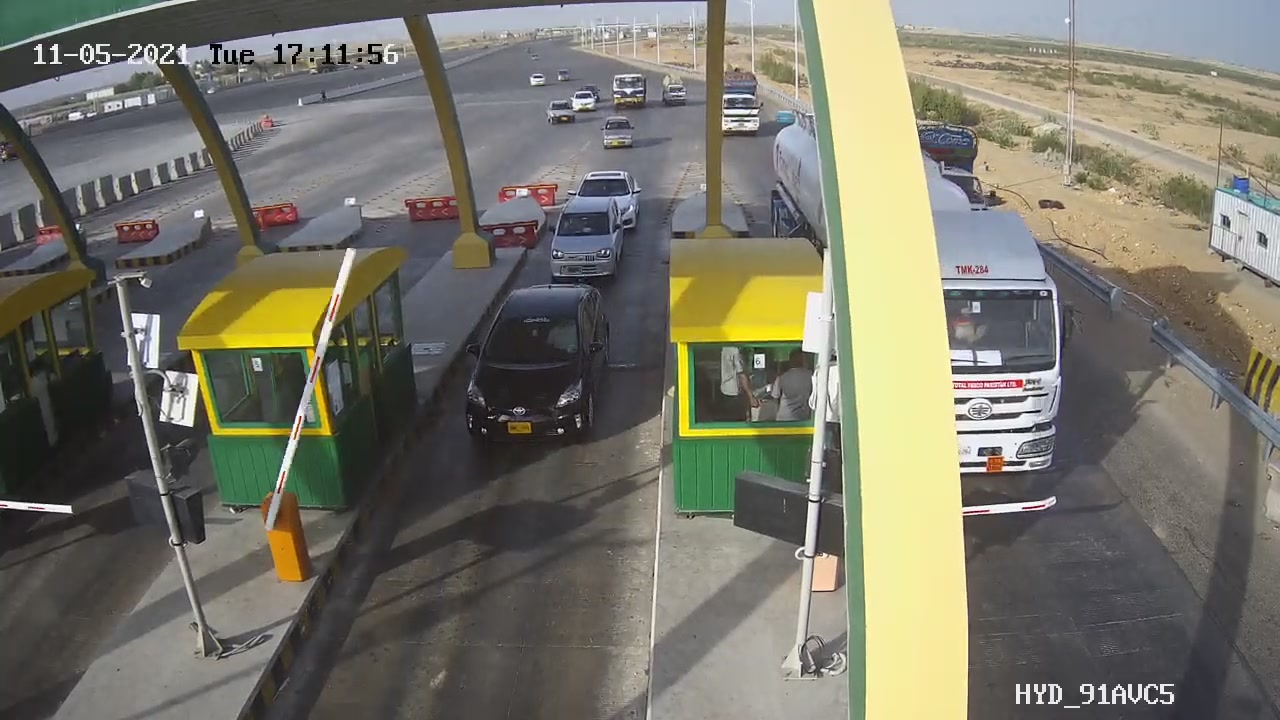F1: (438, 274, 633, 460), (534, 187, 637, 290)
